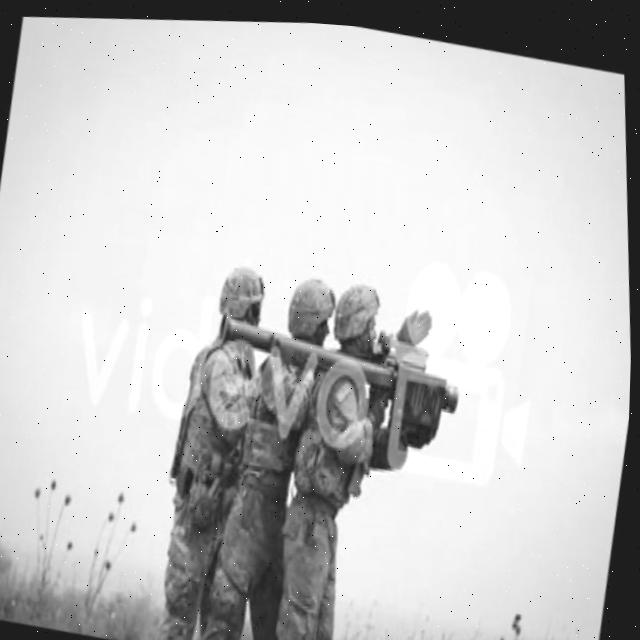rocket: (203, 287, 472, 462)
